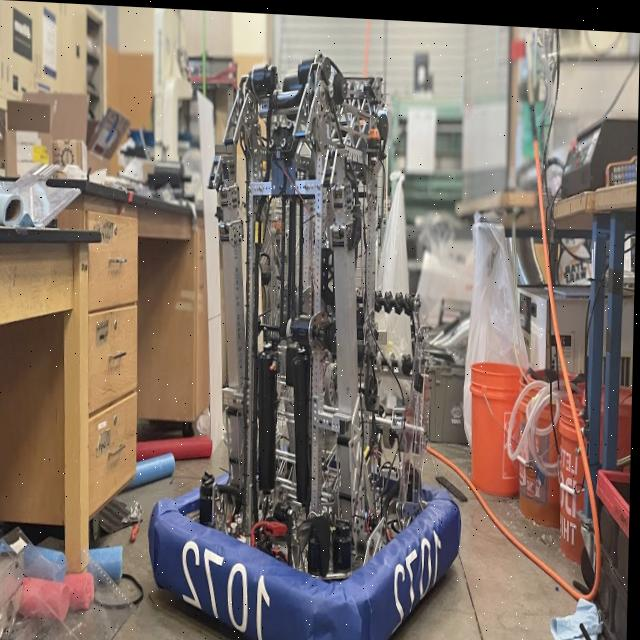robot: (147, 47, 474, 640)
